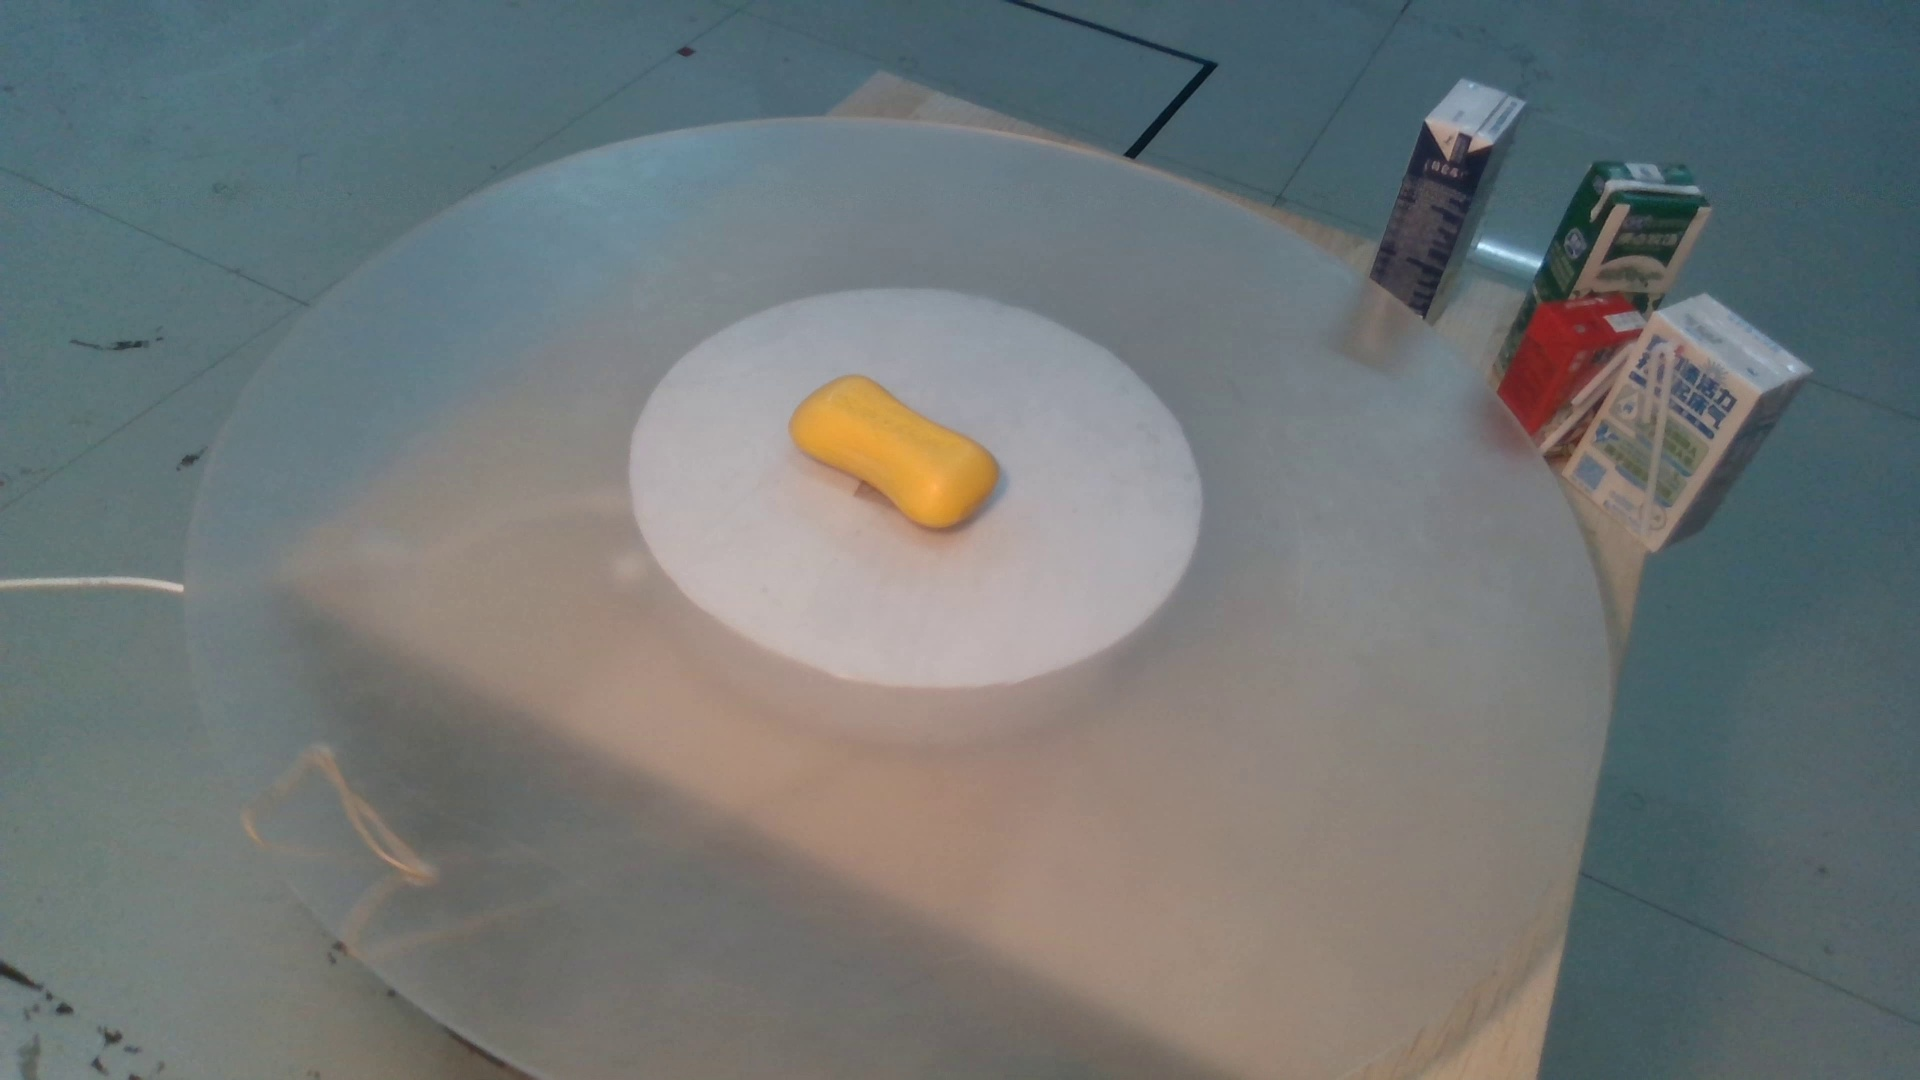CA003_1: (783, 367, 1015, 546)
